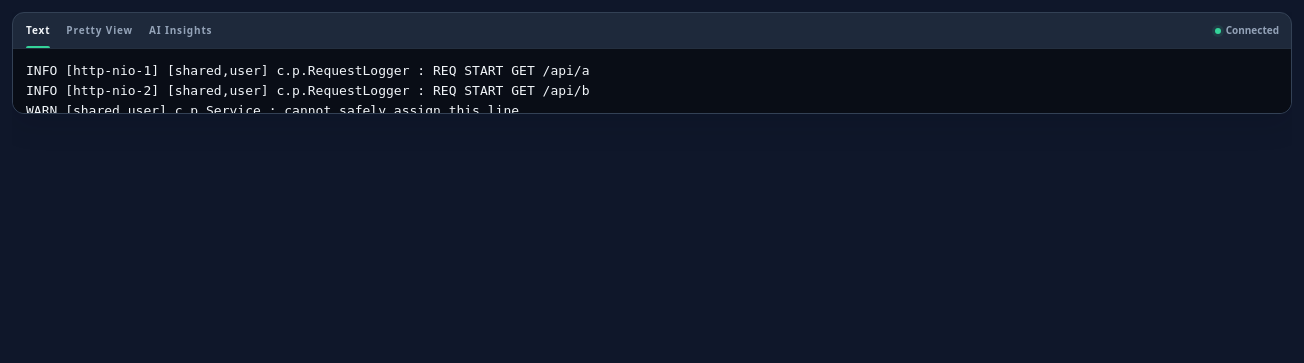
Test: Pretty View API activity cards › shows ambiguous concurrent activity in Unassigned Logs
Click the tab "Pretty View" at (100, 30), box [59,13,140,48]
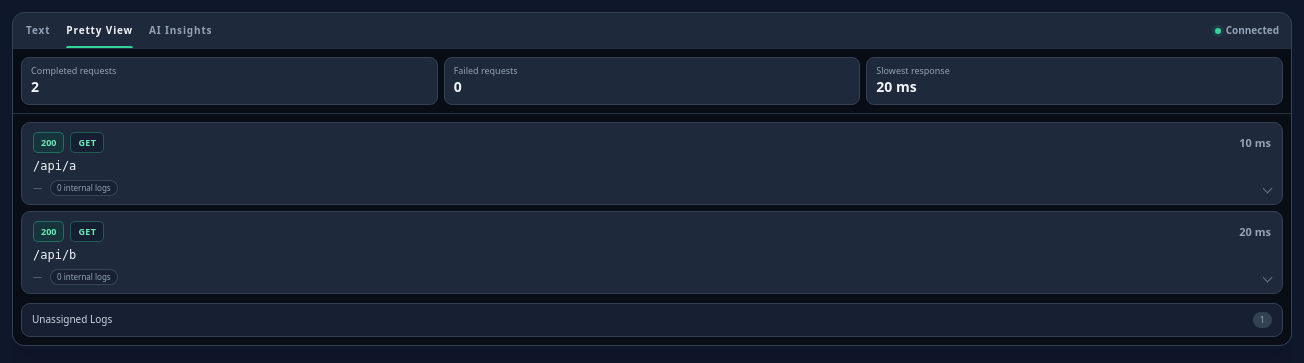
expect the text "Unassigned Logs" is shown: met, box [32,312,112,328]
expect the heading "Unassigned Logs 1" is shown: met, box [32,312,1272,328]
